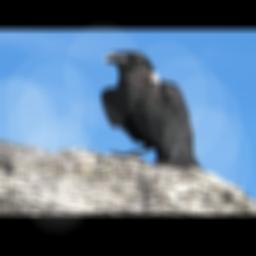Crow: (98, 49, 207, 174)
